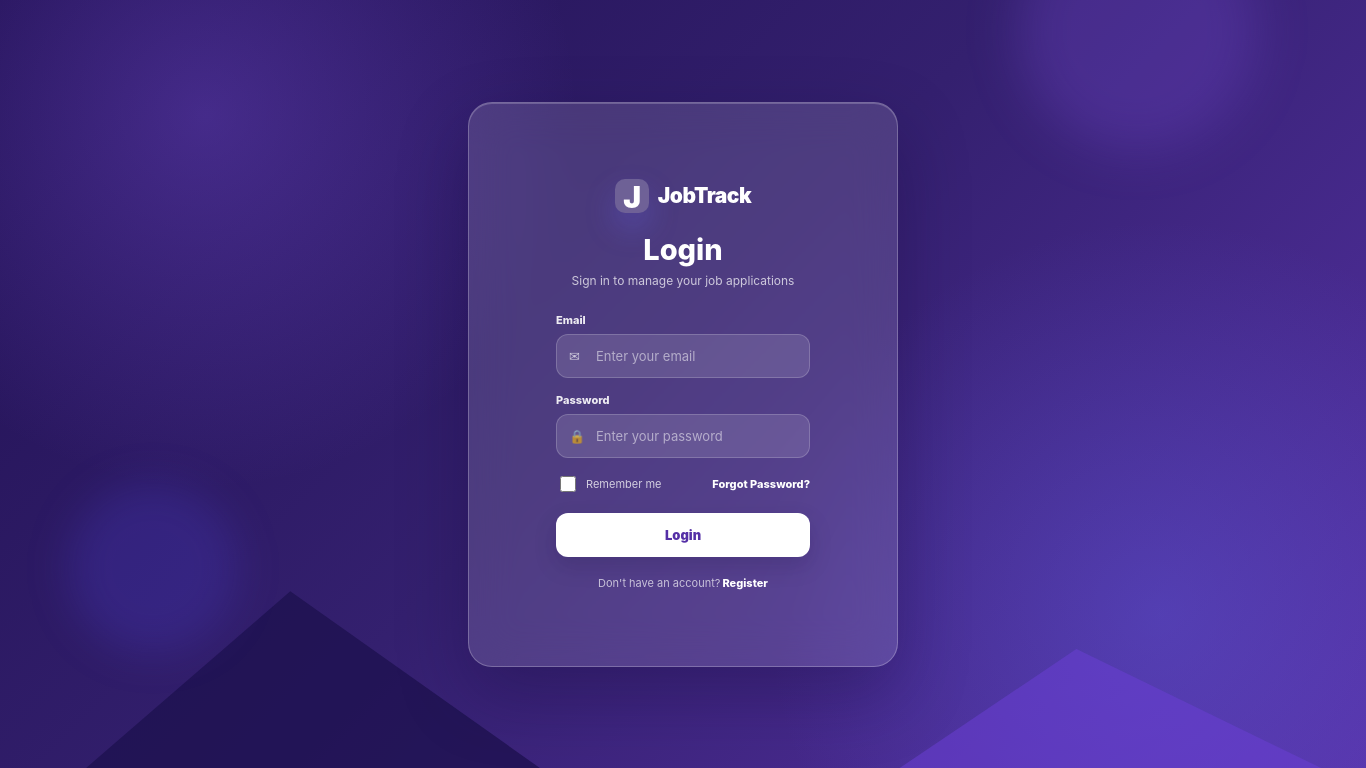
it: shows validation errors when login fields are empty
Step 1. Click the button "Login" → point(683, 534), box left=556, top=512, right=810, bottom=556
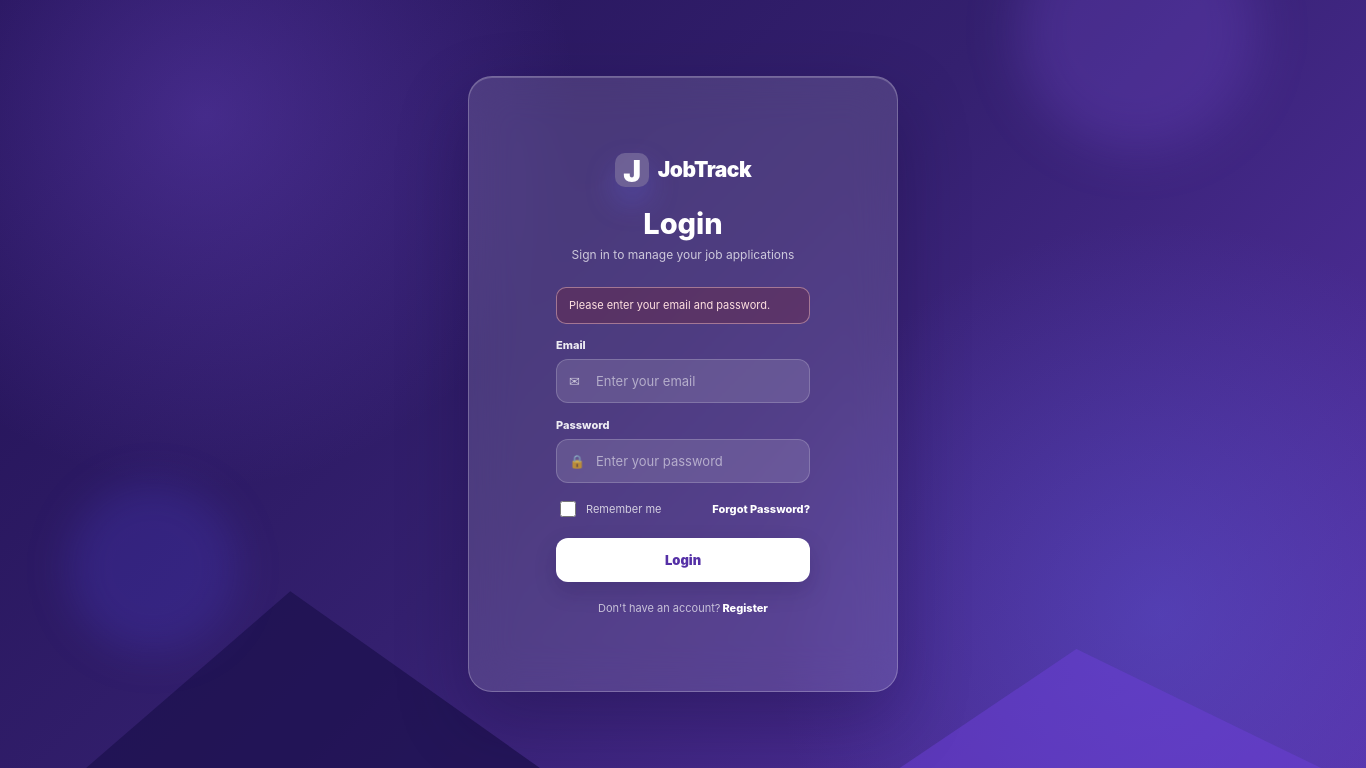
Now the text "Please enter your email and password." is shown, box left=556, top=286, right=810, bottom=324
